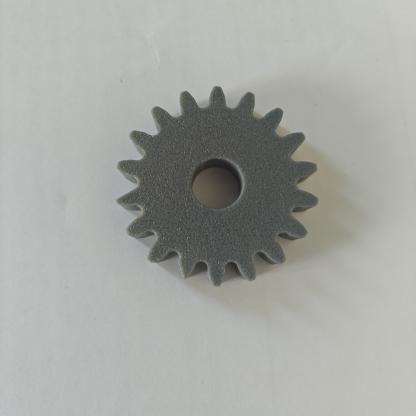gear: (98, 71, 340, 287)
